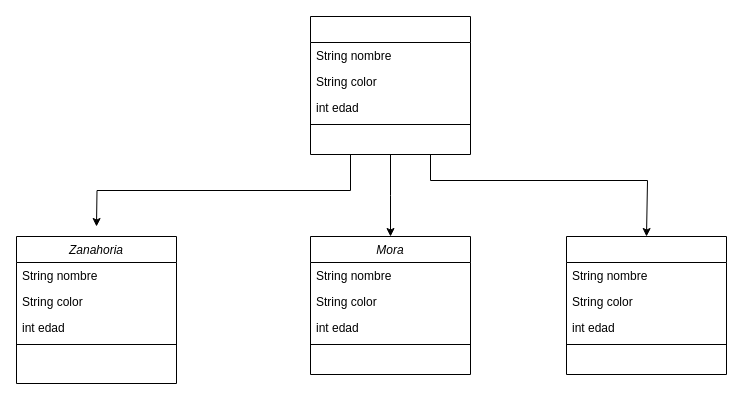
The diagram is 743 pixels wide and 400 high, and some of its shapes have lost their labels. The box of each missing label's shape, as (x1, y1, x2, y2) in pixels:
Lechuga: (566, 236, 726, 374)
Plantas: (310, 16, 470, 154)
